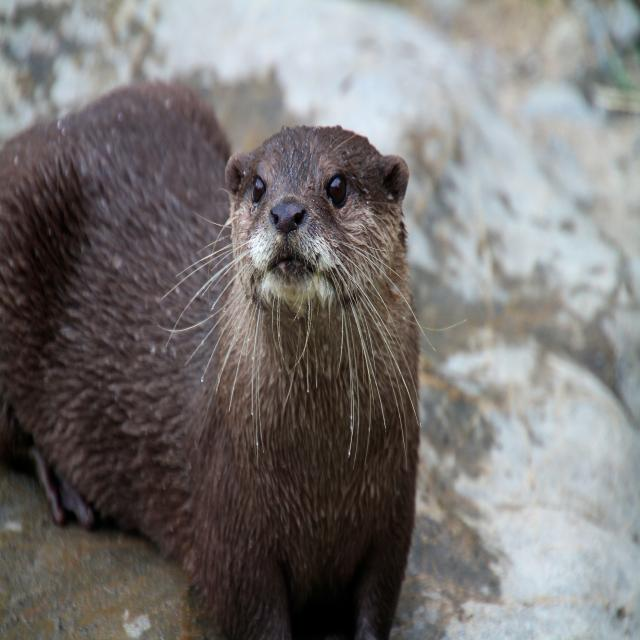otter: (185, 110, 419, 635)
